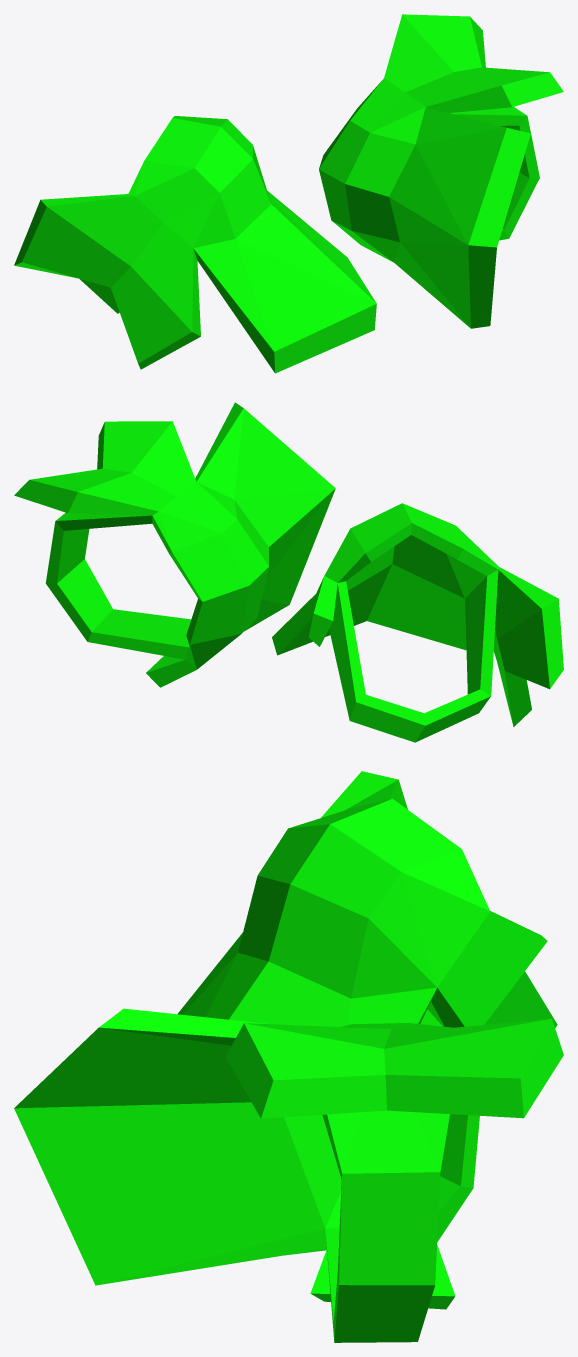
File: SM_Armor_Legs_B_Placed_Fantasy.fbx
The picture shows the model from 3 angles, top to bottom: view 1: azimuth 30°, elevation 25°; view 2: azimuth 150°, elevation 25°; view 3: azimuth 270°, elevation 25°; orthographic projection. The views are drawn at different scales.
Parts seen in each view (by area): view 1: armor-legs-b-placed-fantasy; view 2: armor-legs-b-placed-fantasy; view 3: armor-legs-b-placed-fantasy.
Boxes of the visible parts, bbox=[...] form: armor-legs-b-placed-fantasy: bbox=[14, 14, 563, 373]; armor-legs-b-placed-fantasy: bbox=[14, 402, 563, 742]; armor-legs-b-placed-fantasy: bbox=[14, 771, 563, 1342].
Size of the model in its own units: 0.4514 by 0.1812 by 0.2682.
